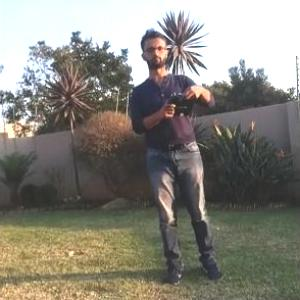follow: (128, 18, 230, 288)
